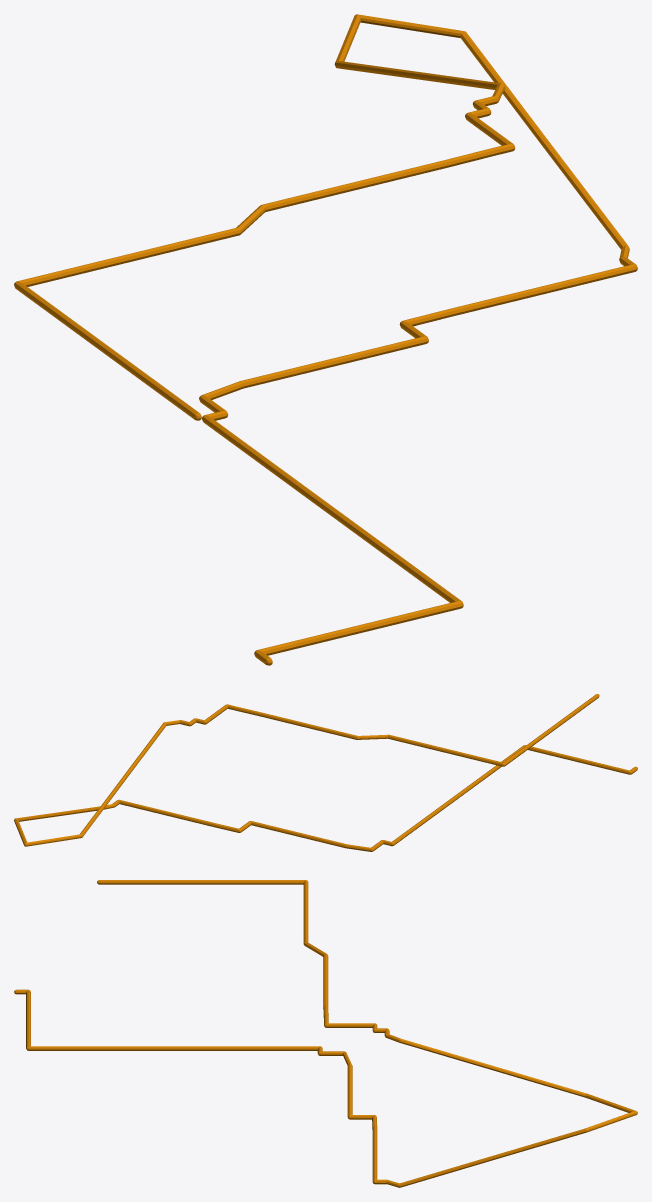
3 renders of one model, top to bottom at view 1: azimuth 30°, elevation 25°; view 2: azimuth 150°, elevation 25°; view 3: azimuth 270°, elevation 25°, orthographic. The views are drawn at different scales.
Size of the model in its own units: 1905 by 520 by 2567.
